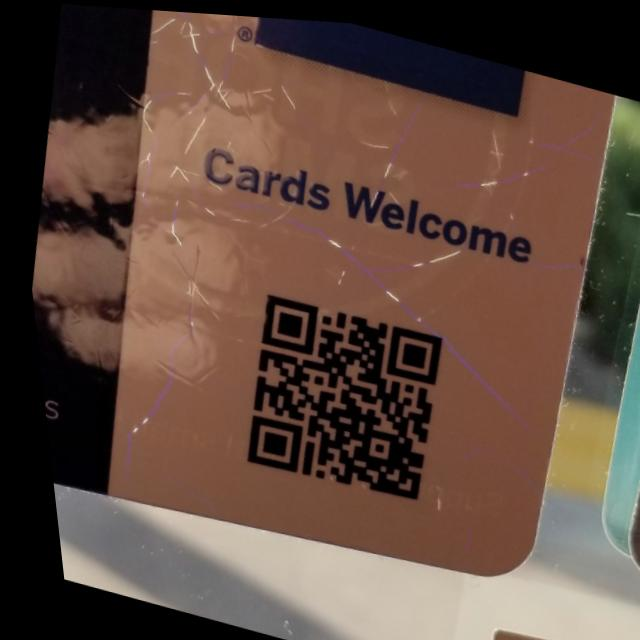QR_CODE: (197, 251, 467, 517)
